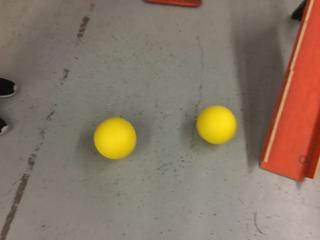power_cell: (89, 115, 145, 164), (192, 101, 240, 146)
